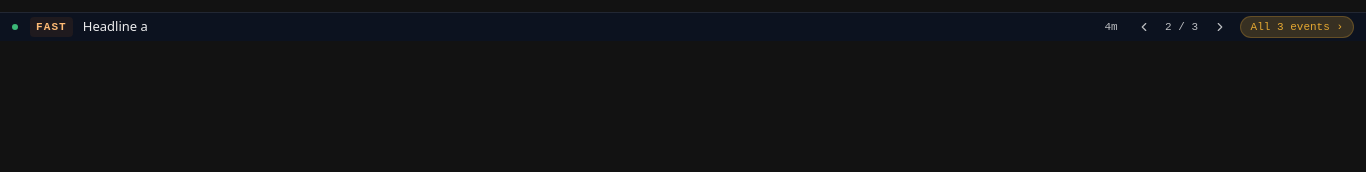
Test case: reduced motion › never advances or jumps by itself; stepping is manual; no slide, no progress bar, no pause button
The width and height of the screenshot is (1366, 172).
Step 1. Click the button named "Next event" → (1220,27), box [1206,13,1234,41]
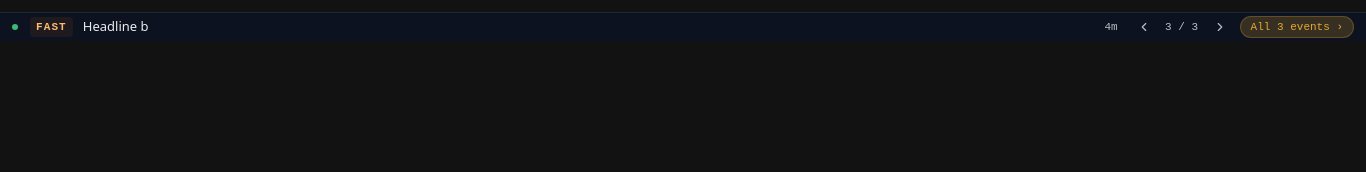
Expected: the text with test id "headline-title" reads "Headline b", [83,17,148,35]
